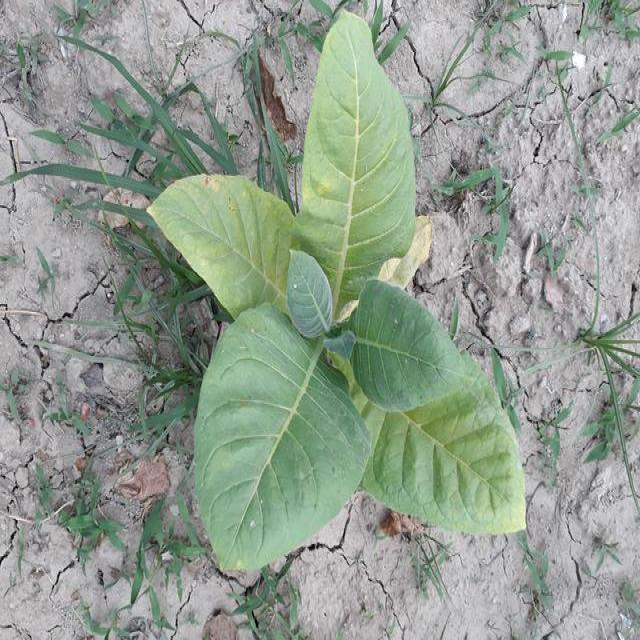crop: (134, 5, 530, 575)
